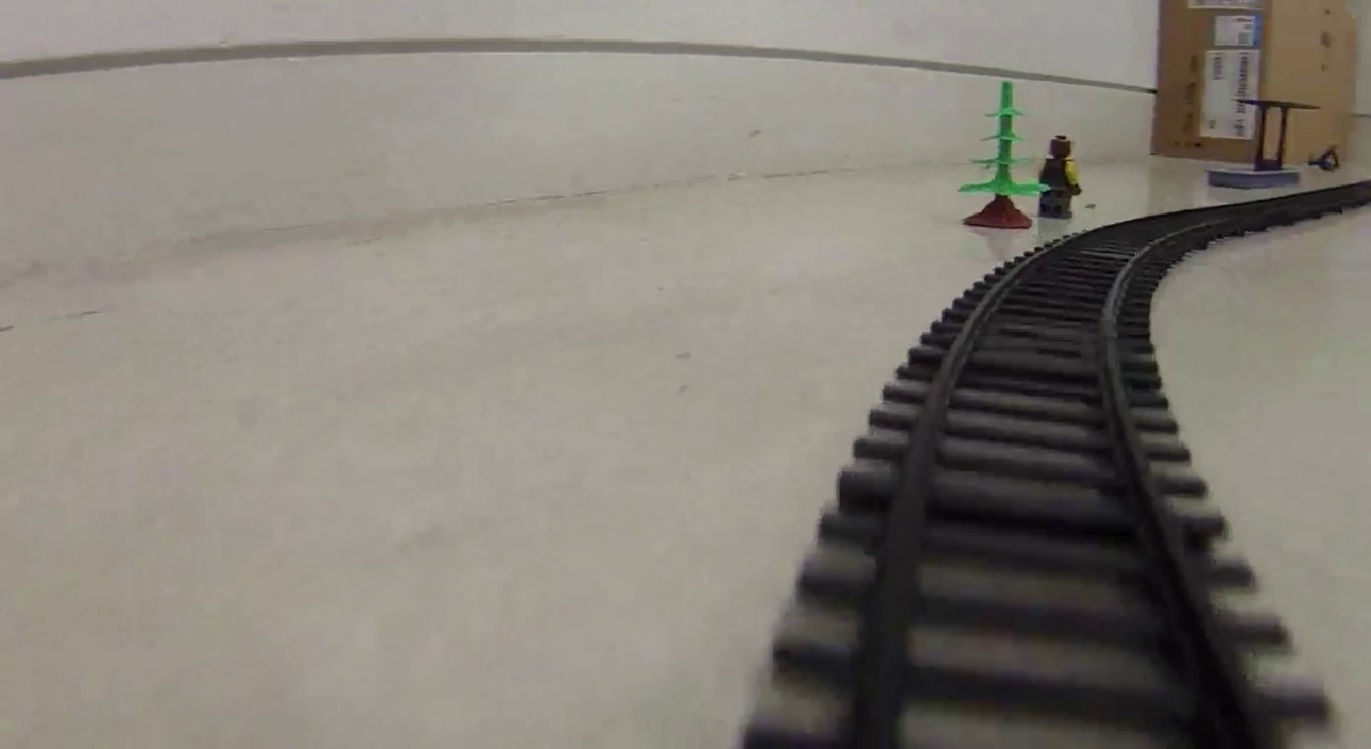people: (1037, 133, 1083, 218)
tree: (959, 81, 1043, 231)
